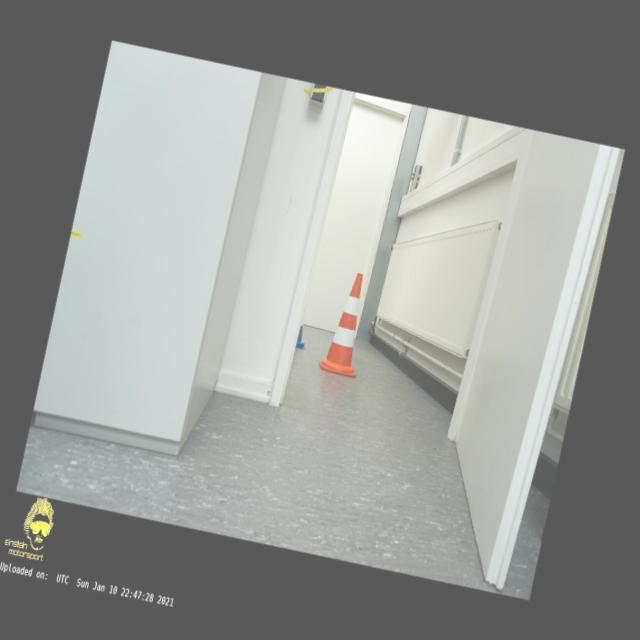blue_cone: (296, 304, 314, 350)
large_orange_cone: (317, 268, 377, 378)
